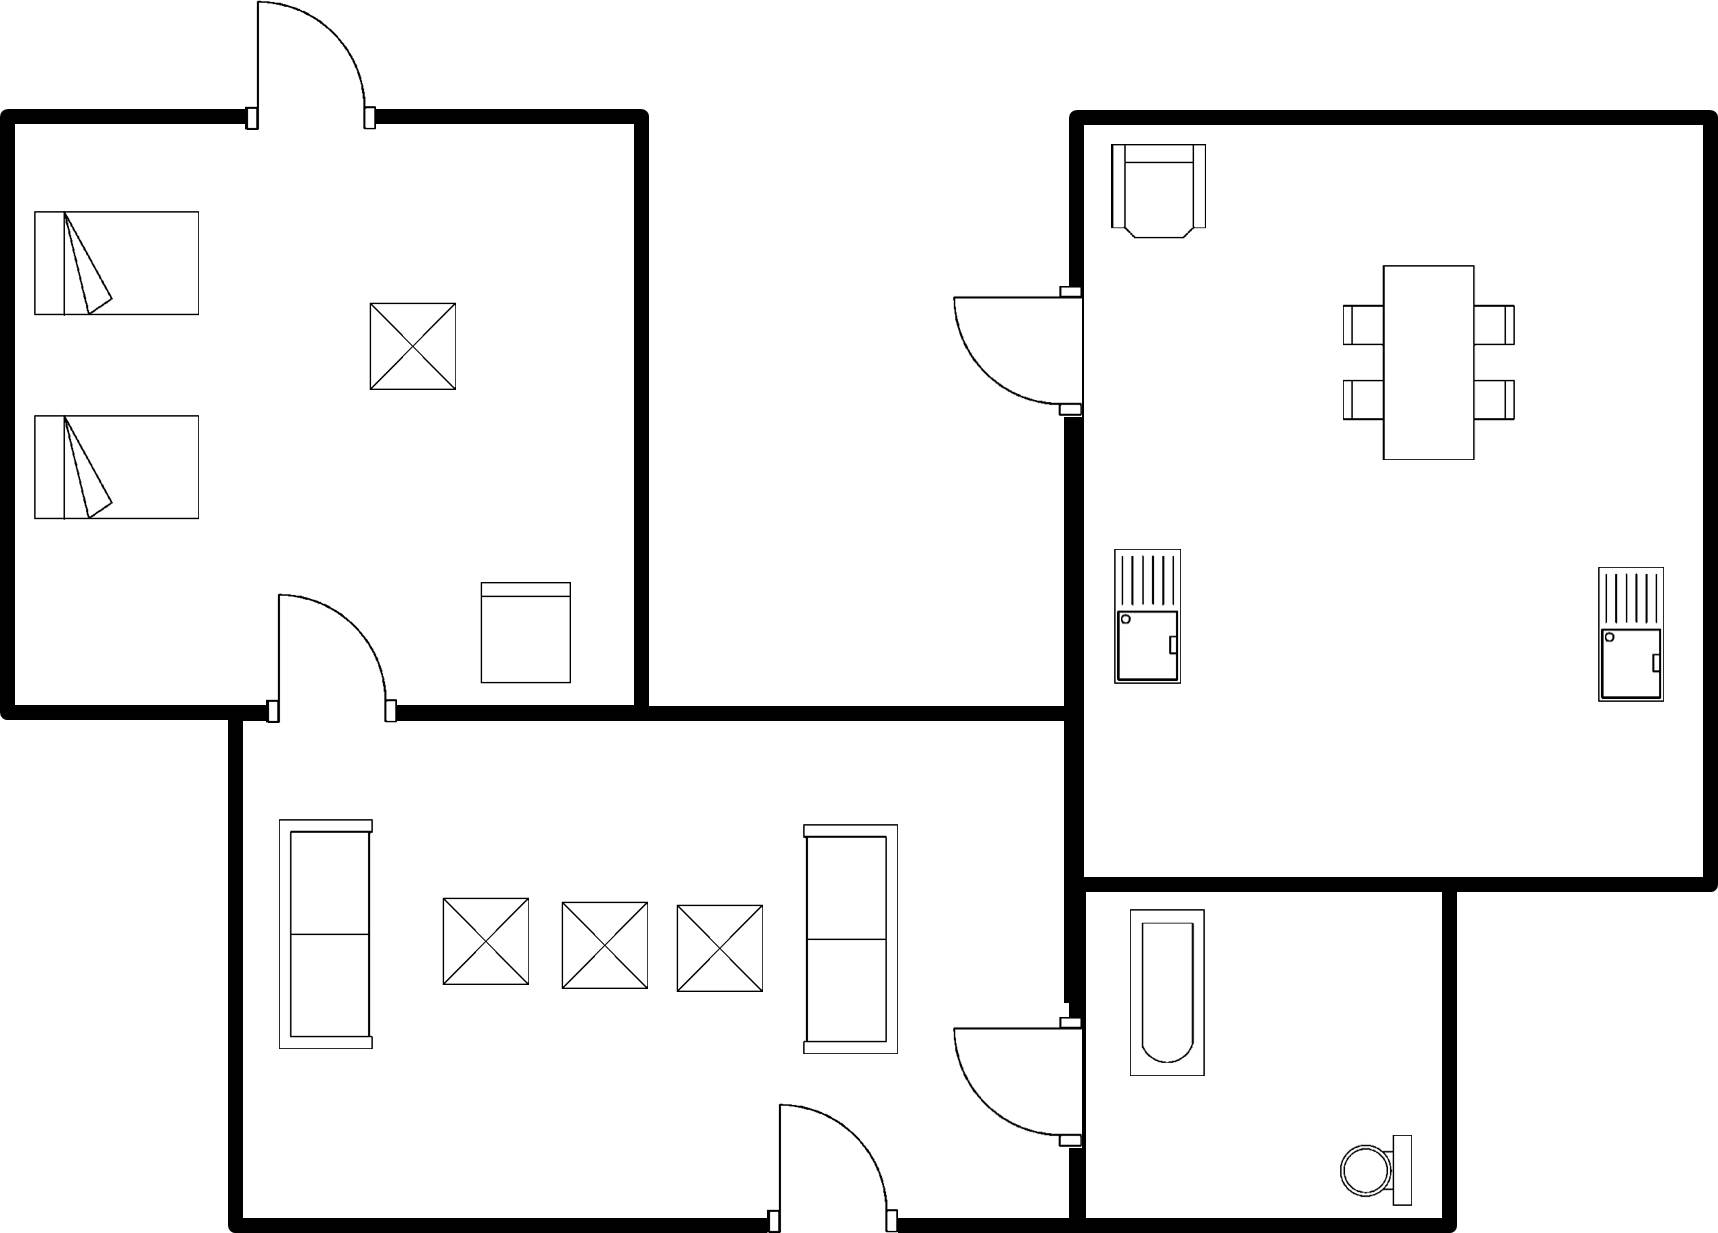armchair: (1103, 136, 1221, 250)
bed: (25, 204, 209, 327), (24, 409, 209, 526)
coffee_table: (552, 894, 658, 1002), (431, 887, 536, 994), (668, 896, 773, 1002), (359, 292, 463, 400)
dining_table: (1331, 255, 1527, 474)
large_sink: (1332, 1126, 1429, 1210)
large_sofa: (792, 810, 912, 1065), (267, 809, 385, 1061)
sink: (1586, 557, 1670, 717), (1106, 542, 1193, 694)
small_sofa: (471, 574, 582, 693)
tub: (1118, 902, 1215, 1086)
